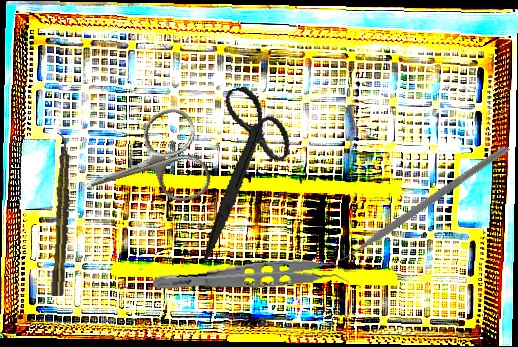Chopper: (324, 97, 510, 306)
Handpiece: (49, 134, 74, 297)
Iris Scissors: (165, 79, 313, 261), (68, 103, 216, 231)
Tissue Forceps: (151, 252, 350, 308)
